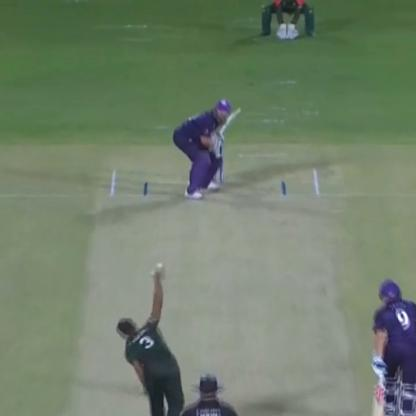bat: (62, 168, 365, 416), (364, 356, 394, 416), (213, 99, 241, 141)
pitch: (152, 260, 166, 275)
